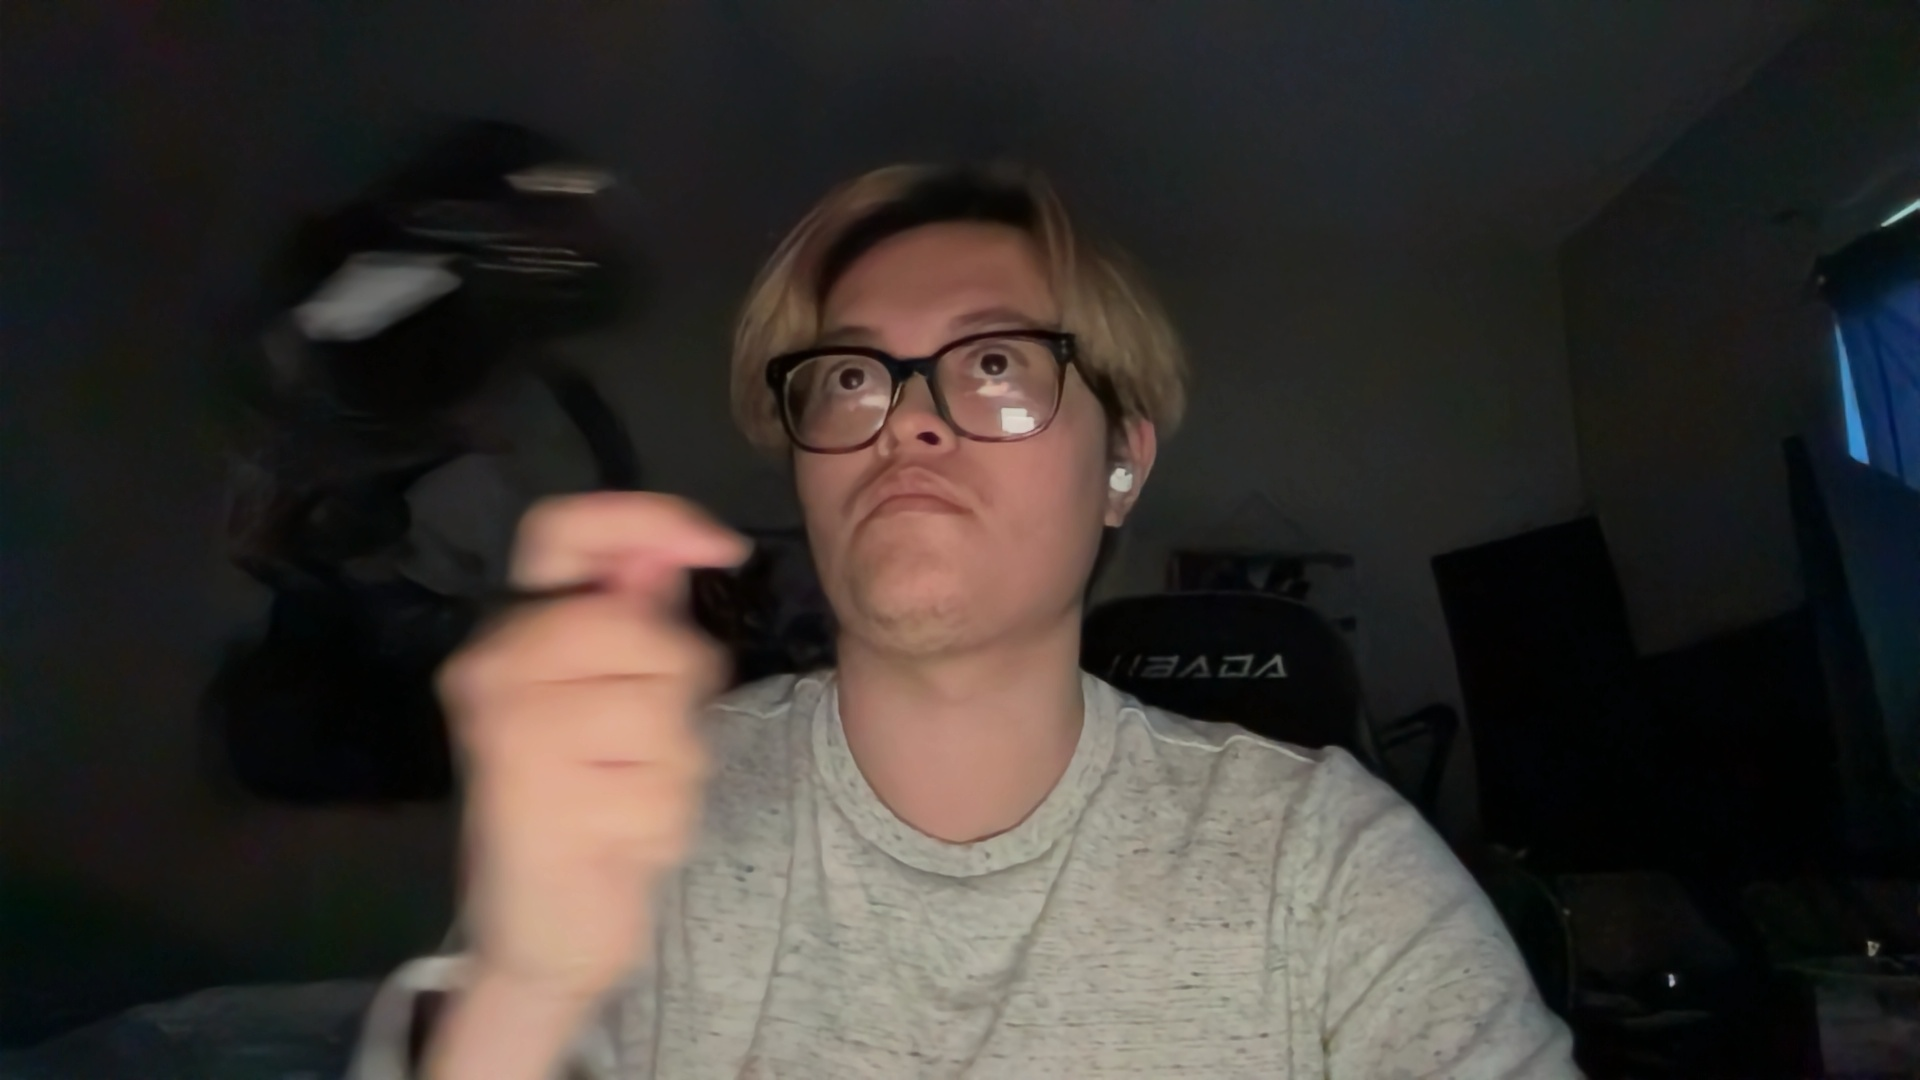microphone: (190, 119, 651, 471)
